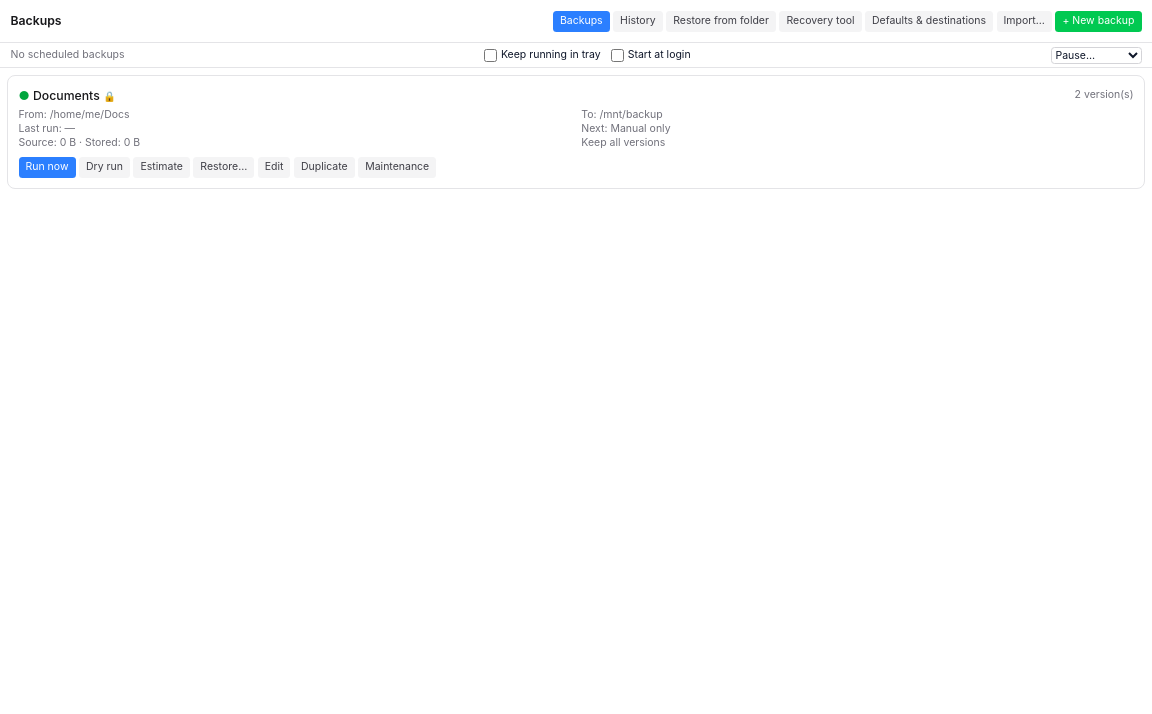
Test case: BackupPanel › restores selected files from a chosen version
expect the text "Documents" is shown: met, box [33, 88, 100, 102]
Click the button with test id "backup-open-restore" at (224, 167), box [193, 156, 254, 178]
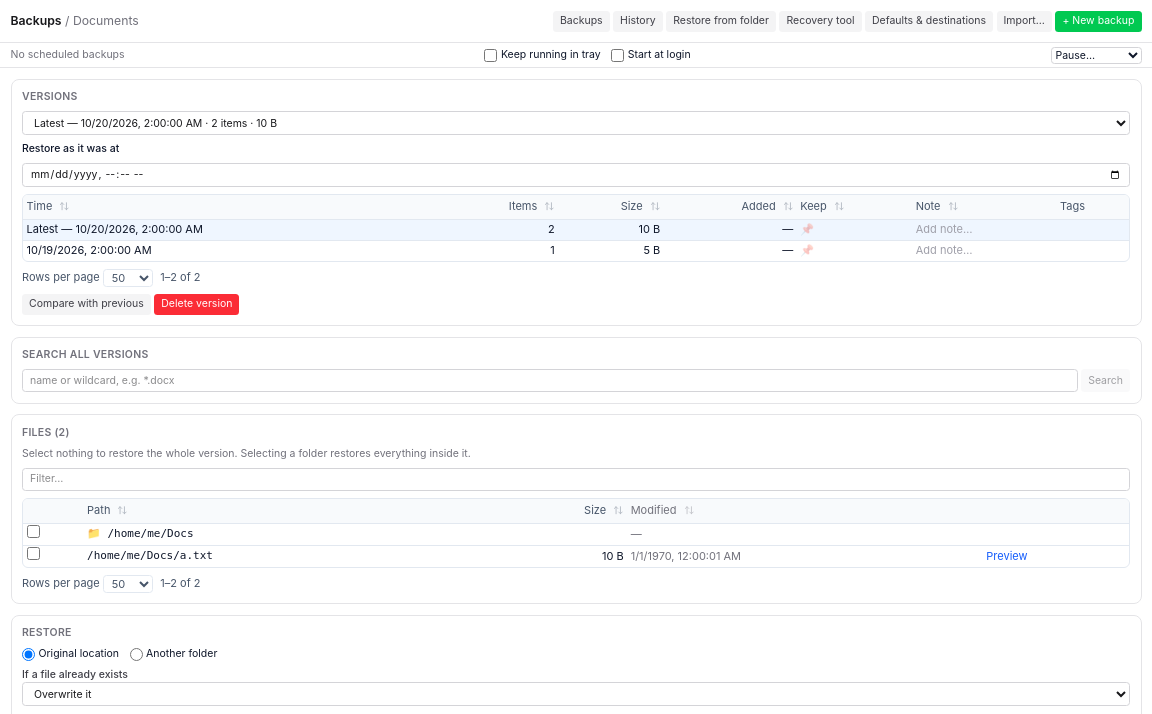
expect the element with test id "backup-file-list" shows "a.txt": met, box [87, 549, 213, 562]
Select "10/19/2026, 2:00:00 AM · 1 items · 5 B" in the dropdown with test id "backup-version-select" at (576, 123), box [22, 111, 1130, 135]
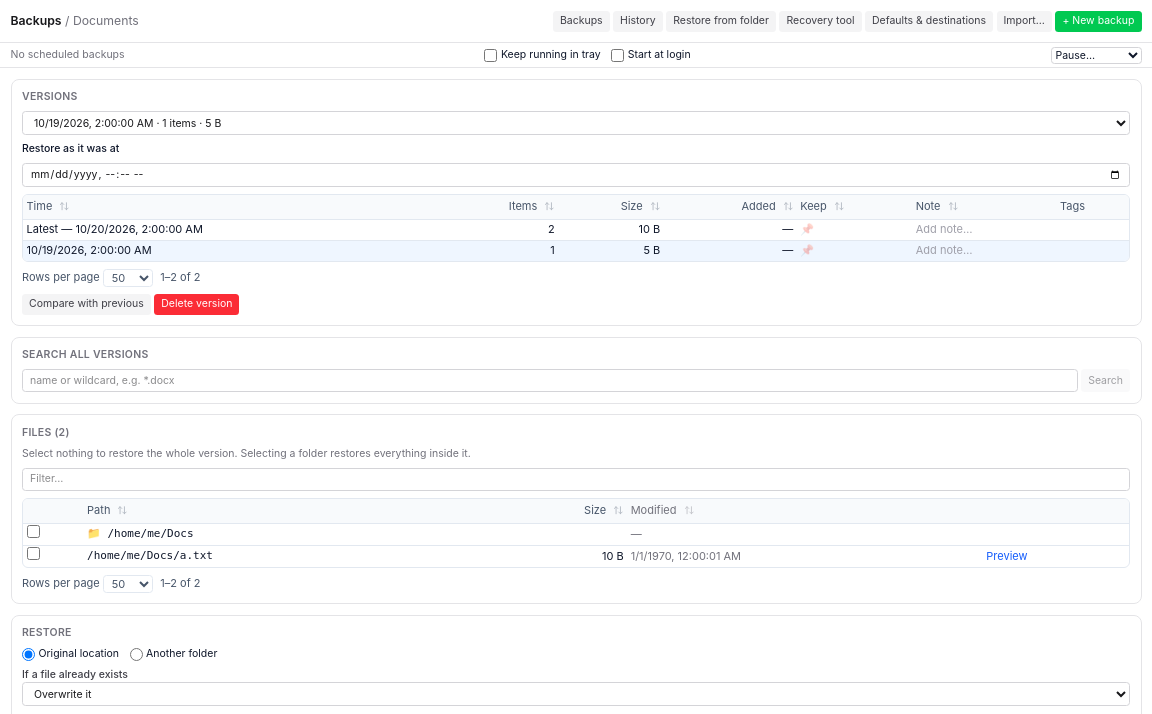
Click the checkbox named "Select /home/me/Docs/a.txt" at (33, 554), box [26, 547, 40, 560]
(page scrolled)
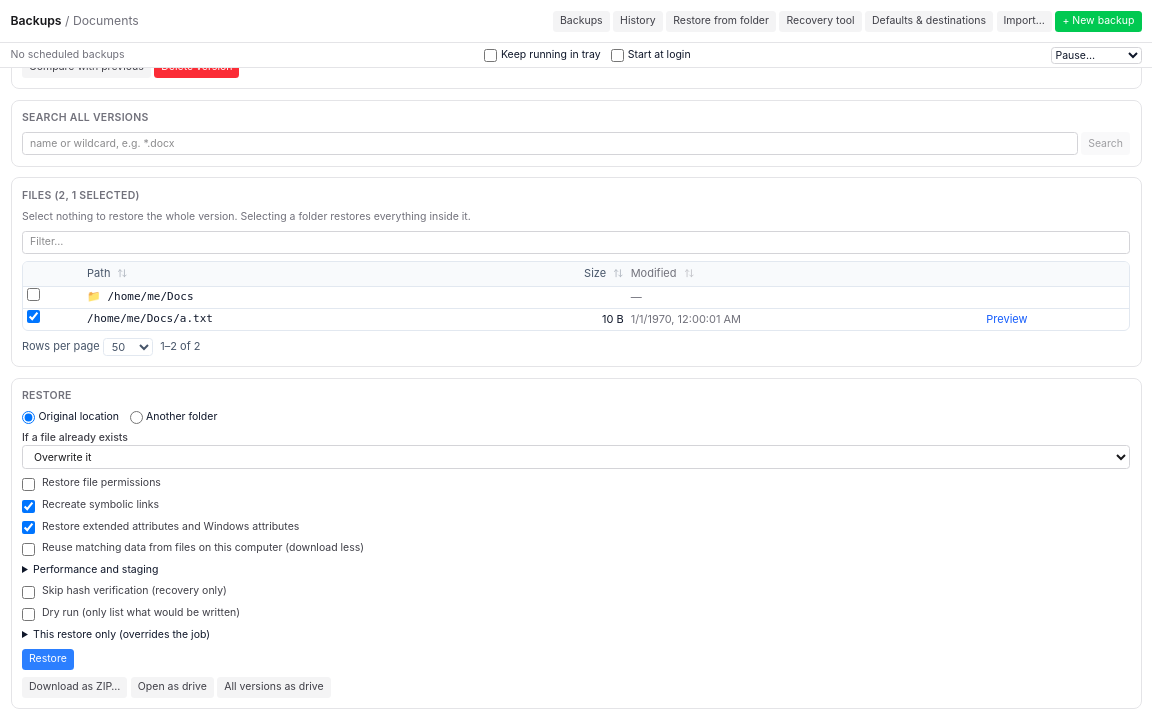
Click the button with test id "backup-restore-run" at (48, 659), box [22, 648, 74, 670]
(page scrolled)
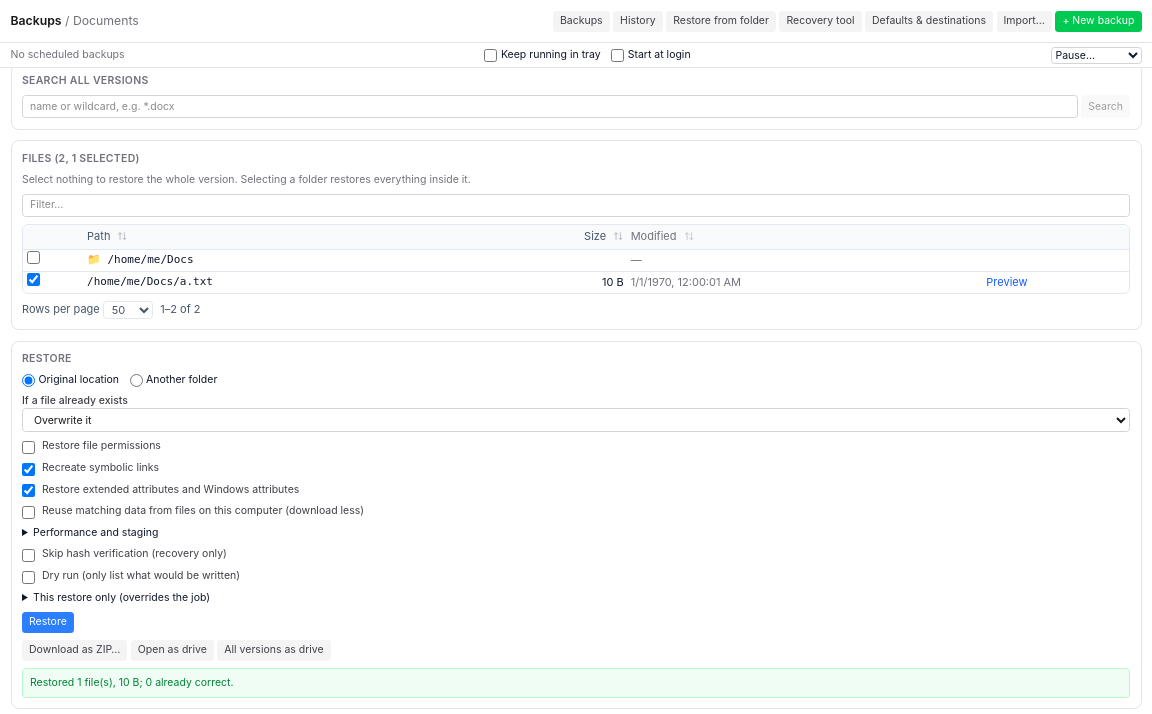
expect the text "Restored 1 file(s), 10 B; 0 already correct." is shown: met, box [30, 676, 234, 690]
